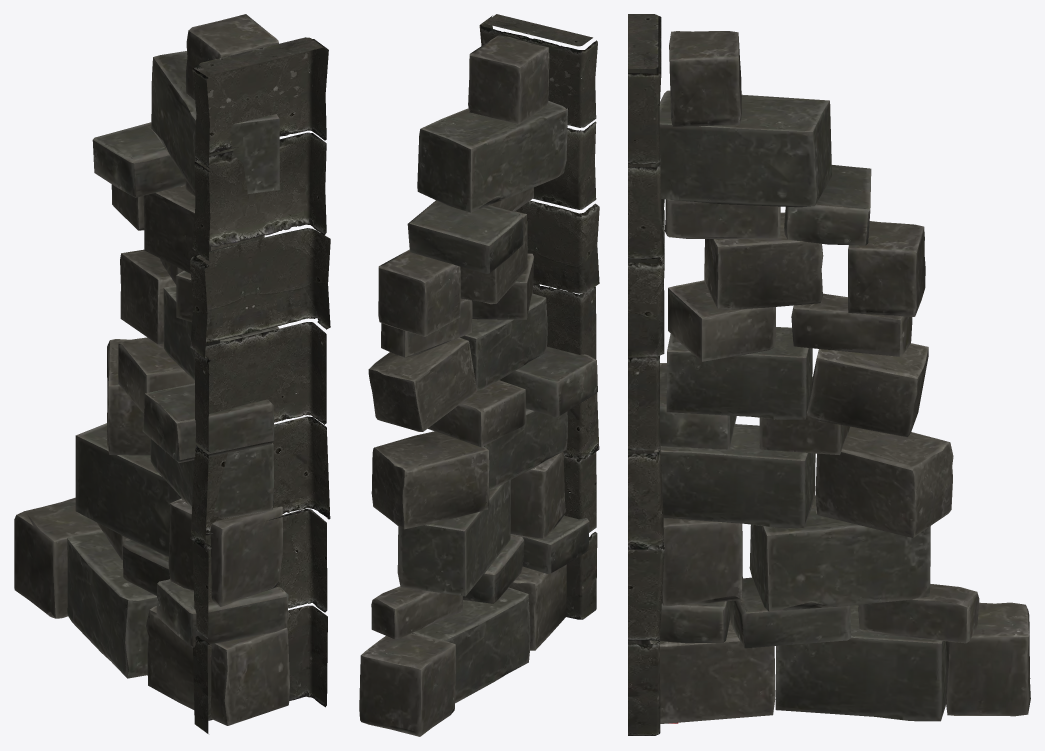
The picture shows the model from 3 angles, left to right: view 1: azimuth 30°, elevation 25°; view 2: azimuth 150°, elevation 25°; view 3: azimuth 270°, elevation 25°; orthographic projection. The views are drawn at different scales.
Visible parts, largest first — view 1: SM_Greathall_Wall_8x10_Broken_04_LOD0; view 2: SM_Greathall_Wall_8x10_Broken_04_LOD0; view 3: SM_Greathall_Wall_8x10_Broken_04_LOD0.
Part boxes in pixels (x1,y1,x2,y2): SM_Greathall_Wall_8x10_Broken_04_LOD0: (14, 14, 330, 733); SM_Greathall_Wall_8x10_Broken_04_LOD0: (359, 14, 599, 736); SM_Greathall_Wall_8x10_Broken_04_LOD0: (628, 14, 1030, 735).
Bounding box in the file's own units: 2.21 × 10.04 × 5.47.
Materials: 3 (3 with a texture image).
